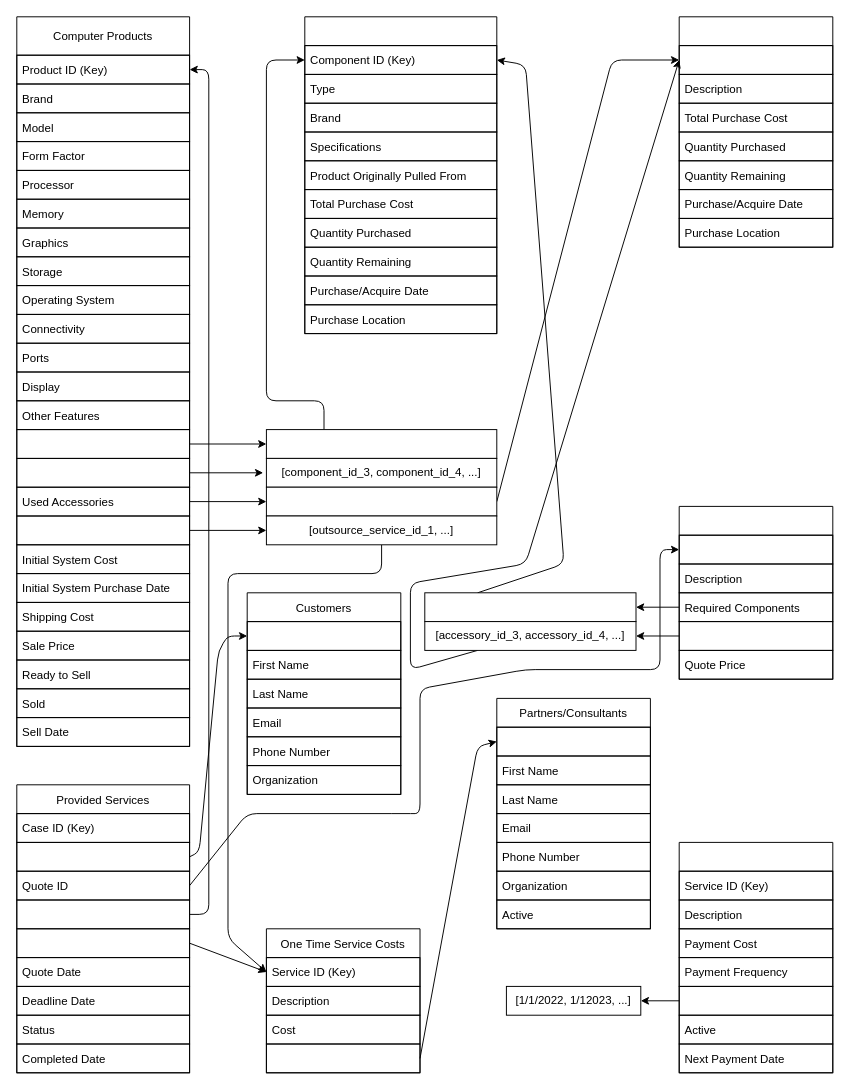
This 850x1090 diagram has some shape labels left out. The box of each missing label's shape, as (x1, y1, x2, y2) in pixels:
[accessory_id_1, accessory_id_2, ...]: (265, 486, 497, 516)
[component_id_1, component_id_2, ...]: (265, 429, 497, 458)
[component_id_5, component_id_6, ...]: (424, 592, 636, 622)
Accessories: (678, 16, 833, 247)
Accessory ID (Key): (678, 45, 833, 74)
Added Components: (16, 457, 190, 487)
Components: (304, 16, 497, 334)
Customer ID: (16, 841, 190, 871)
Customer ID (Key): (246, 621, 401, 650)
Outsourced Service ID: (16, 928, 190, 958)
Partner ID (Key): (496, 726, 650, 756)
Partner/Consultant ID: (265, 1043, 420, 1073)
Payment Dates: (678, 985, 833, 1015)
Periodic Service Costs: (678, 841, 833, 1073)
Pre-sale Servicing: (16, 515, 190, 545)
Product ID: (16, 899, 190, 929)
Quote ID (Key): (678, 534, 833, 564)
Removed Components: (16, 429, 190, 458)
Required Accessories: (678, 621, 833, 650)
Service Quotes: (678, 505, 833, 679)
